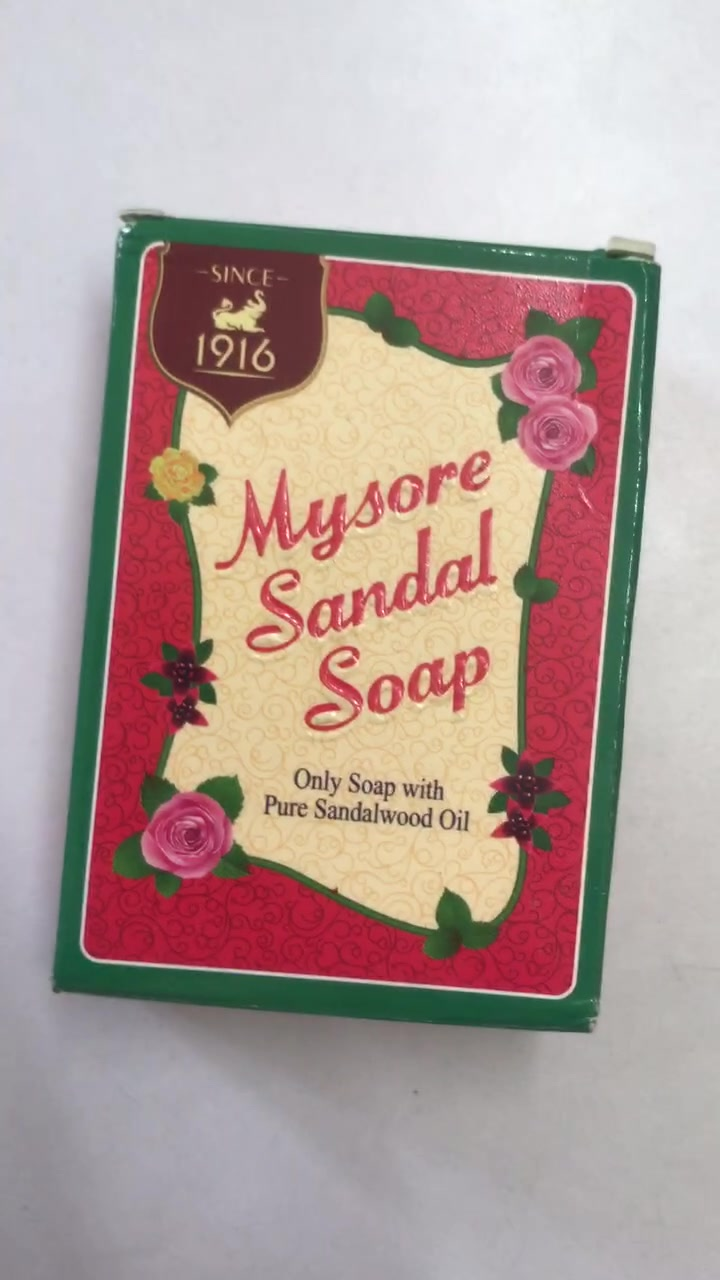mysore sandal soap: (52, 217, 656, 1043)
